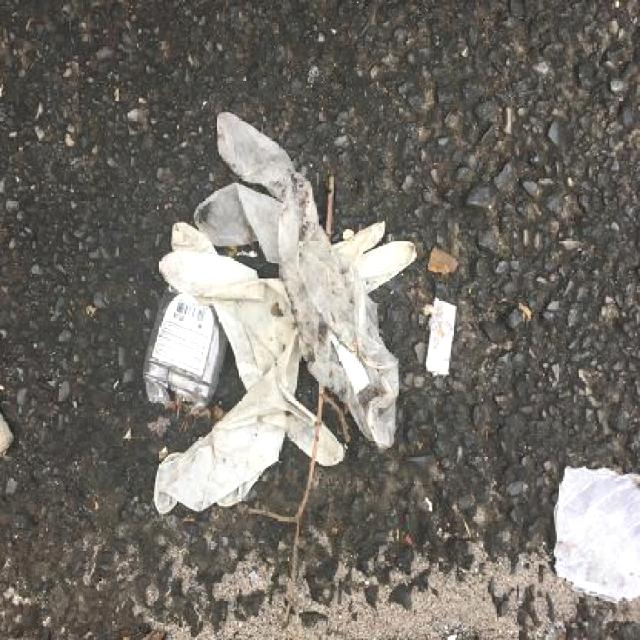glove: (119, 107, 426, 516)
